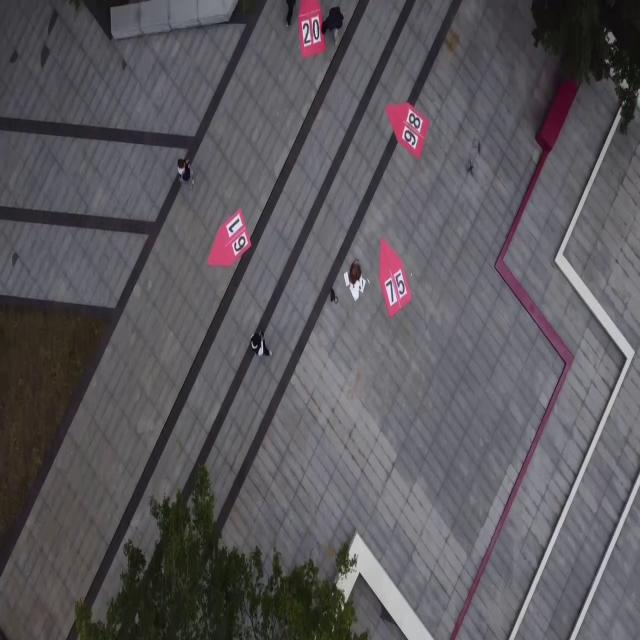-sign-: (377, 231, 418, 325), (206, 198, 253, 272), (385, 100, 429, 160)
